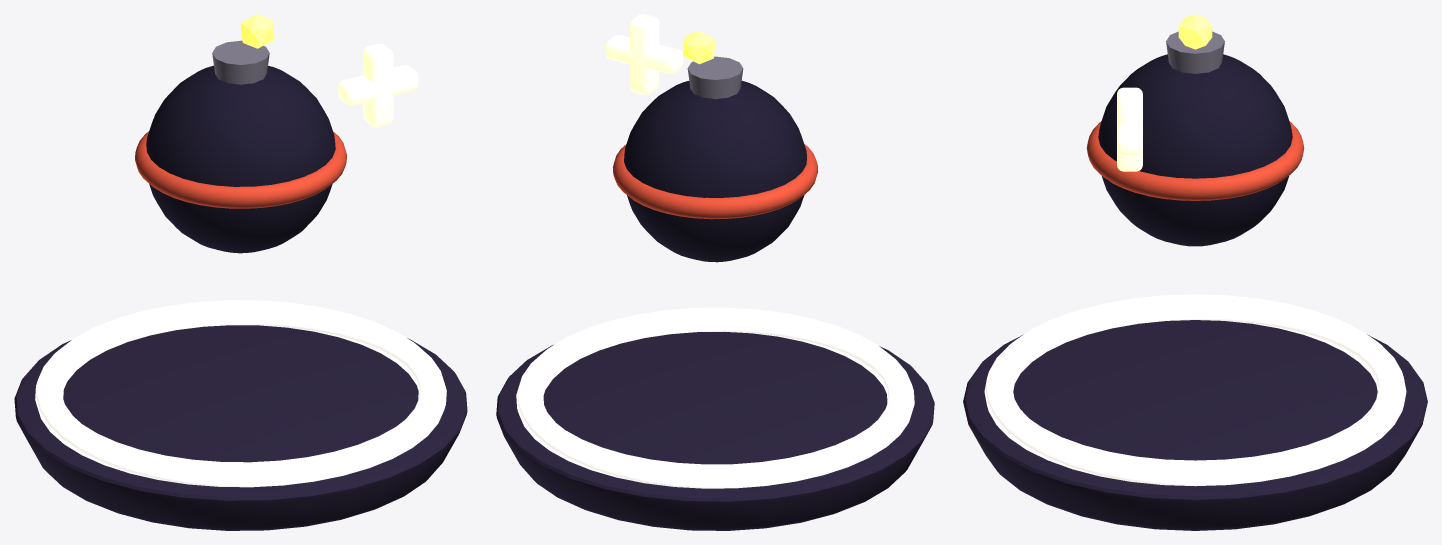
The model's file is pu_bomb_up.glb.
The picture shows the model from 3 angles, left to right: view 1: azimuth 30°, elevation 25°; view 2: azimuth 150°, elevation 25°; view 3: azimuth 270°, elevation 25°; orthographic projection. The views are drawn at different scales.
Parts seen in each view (by area): view 1: pu_bomb_up; view 2: pu_bomb_up; view 3: pu_bomb_up.
Part boxes in pixels (<box>): pu_bomb_up: <box>14,14,467,530</box>; pu_bomb_up: <box>496,14,934,530</box>; pu_bomb_up: <box>963,14,1427,530</box>.
Size of the model in its own units: 0.7092 by 0.74 by 0.7092.
